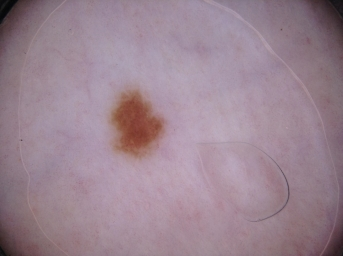melanoma: (111, 92, 162, 157)
